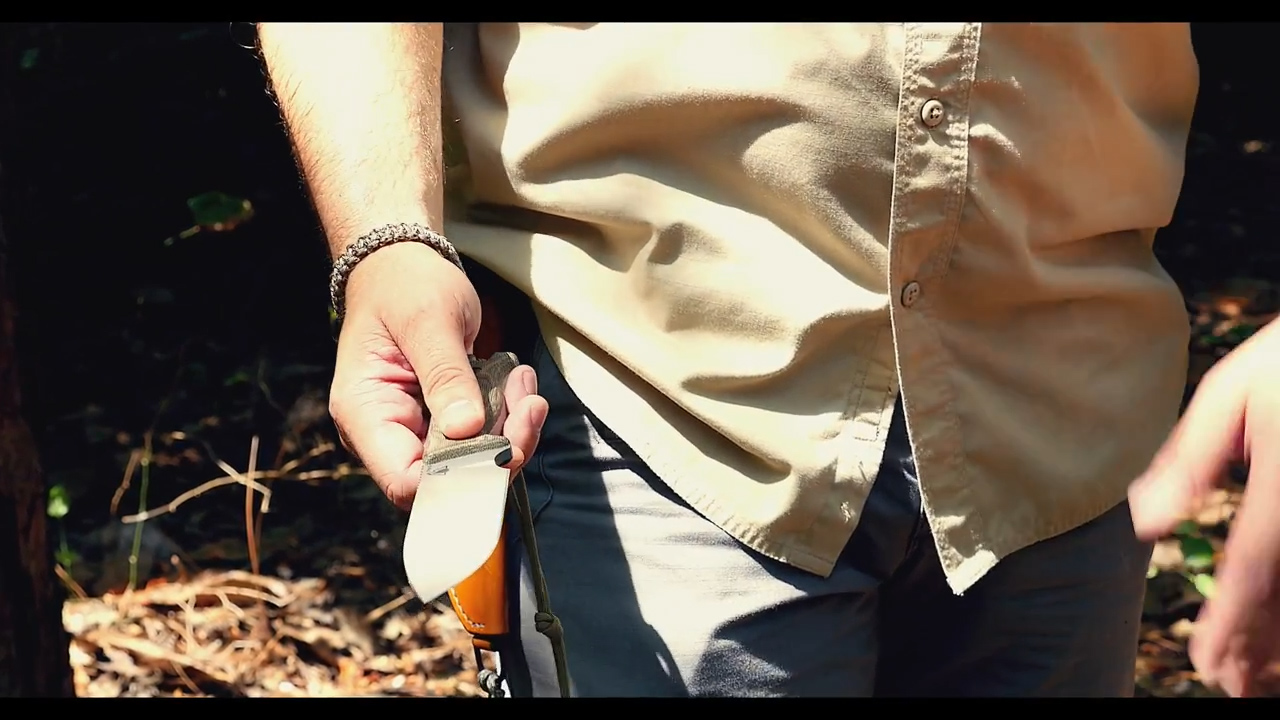knife: (322, 343, 559, 613)
